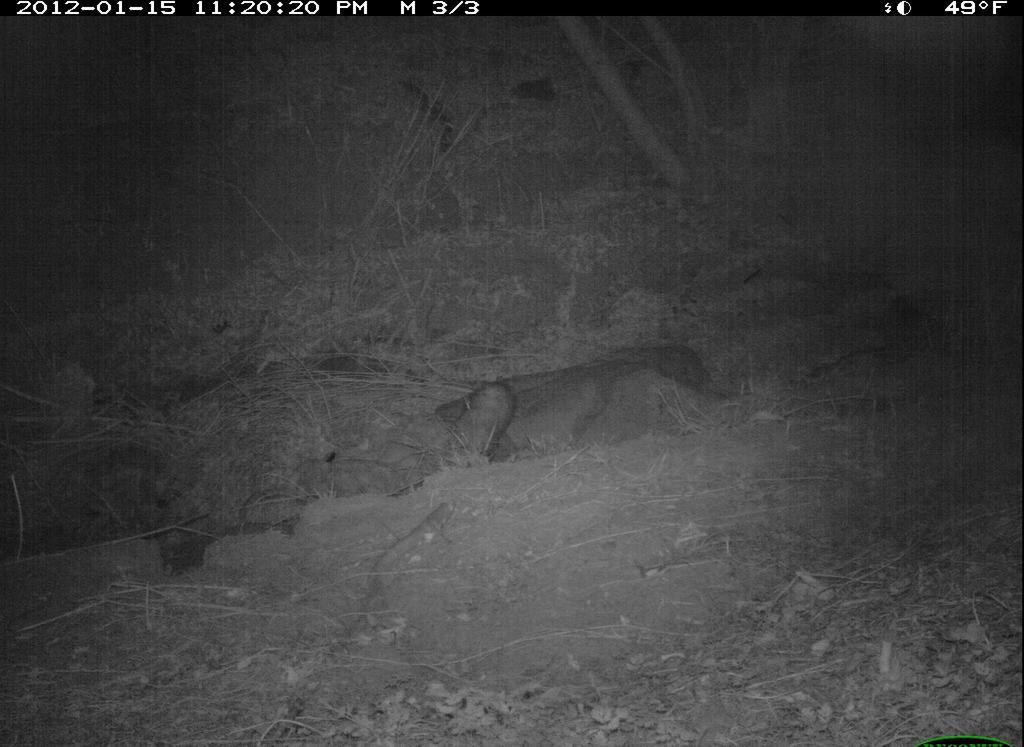opossum: (452, 374, 524, 470)
